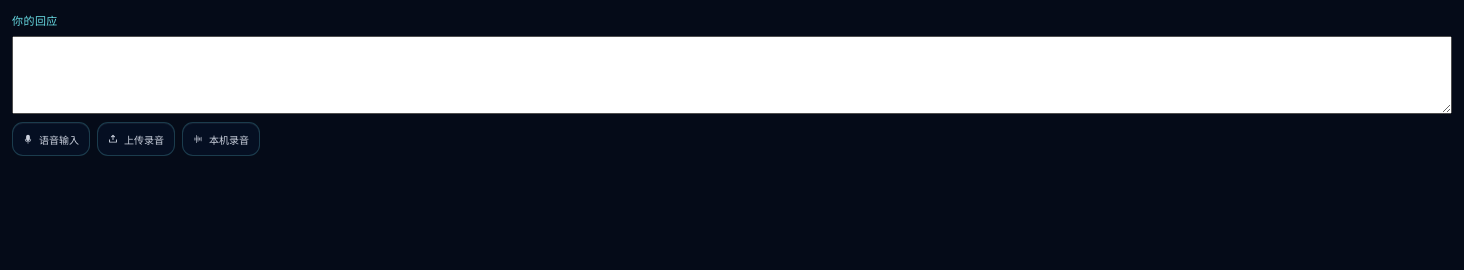
Test case: UtteranceInput recording lifecycle › locks text while recording, stops cleanly and retains audio when ASR is unavailable
Click the button "语音输入" at (51, 139), box [12,122,90,156]
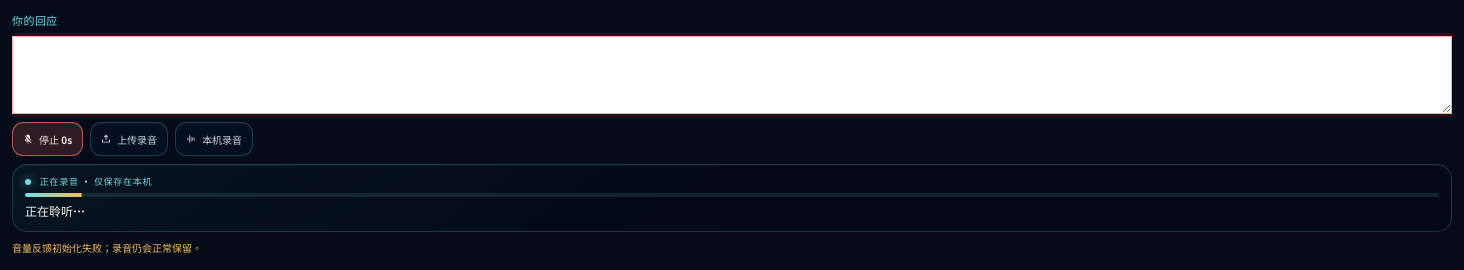
Click the button "停止 0s" at (48, 139), box [12,122,83,156]
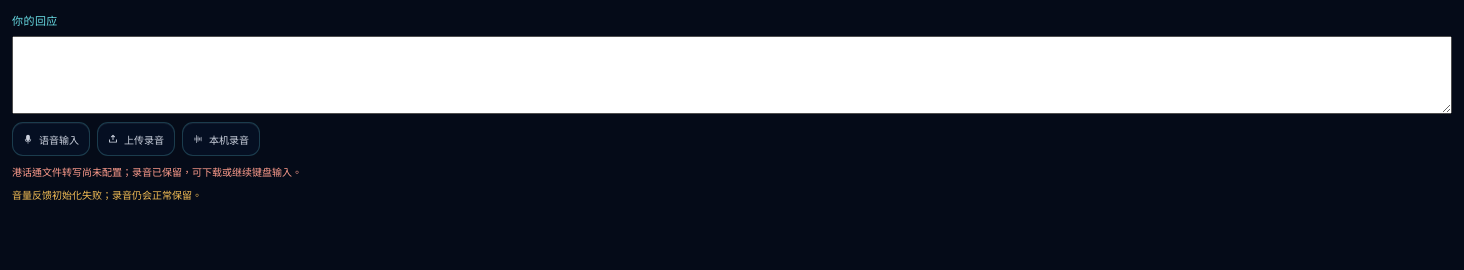
Expected: the text "港话通文件转写尚未配置；录音已保留，可下载或继续键盘输入。" is shown, [12,164,302,179]
